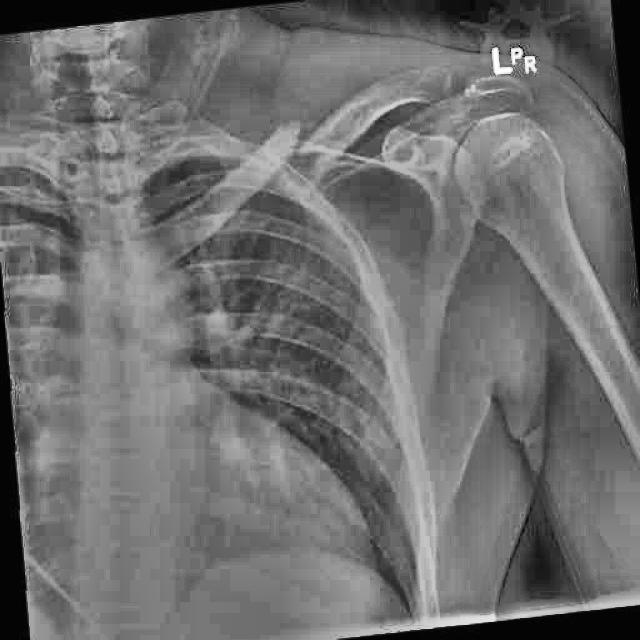shoulder fracture: (245, 83, 373, 209)
